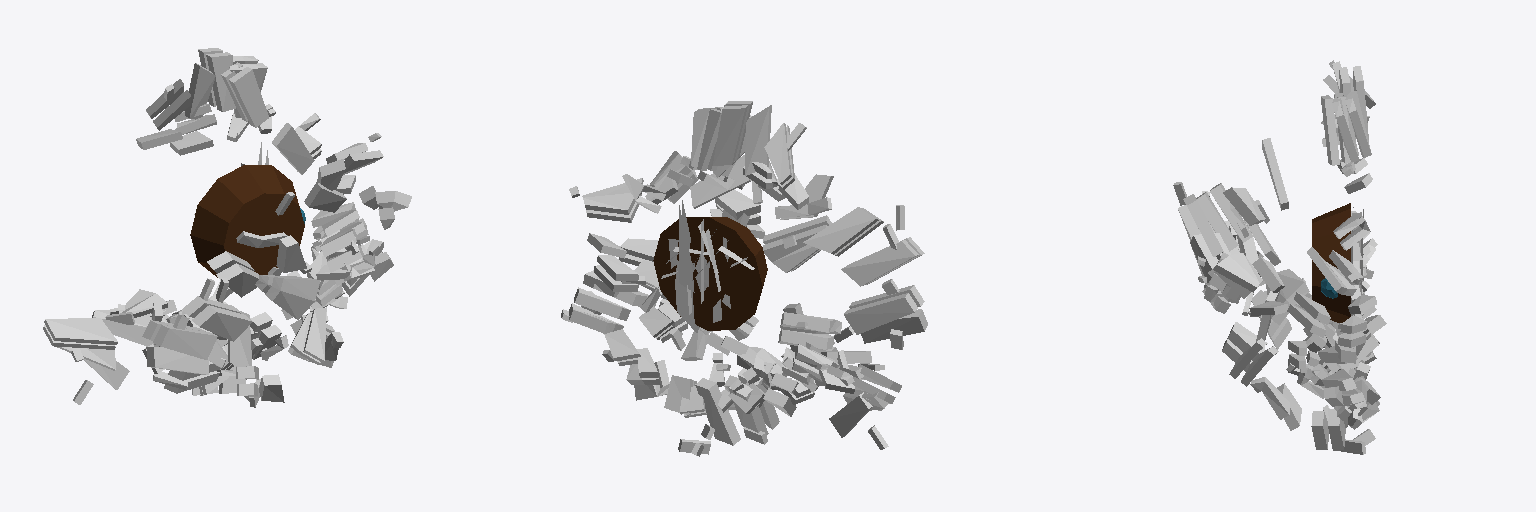
3 views of the same model, side by side, from view 1: azimuth 30°, elevation 25°; view 2: azimuth 150°, elevation 25°; view 3: azimuth 270°, elevation 25° (orthographic).
Visible parts, largest first — view 1: Cone.001_Cone.001_cover, Cone_Cone_cover, Cylinder_Cylinder_Material.001; view 2: Cone_Cone_cover, Cone.001_Cone.001_cover, Cylinder_Cylinder_Material.001, Plane_Plane_Material.003; view 3: Cone_Cone_cover, Cone.001_Cone.001_cover, Cylinder_Cylinder_Material.001, Plane_Plane_Material.003.
Part boxes in pixels (left/top/right/bottom): Cone.001_Cone.001_cover: left=43, top=48, right=383, bottom=404; Cone_Cone_cover: left=105, top=159, right=411, bottom=407; Cylinder_Cylinder_Material.001: left=190, top=165, right=304, bottom=277; Cone_Cone_cover: left=561, top=151, right=927, bottom=456; Cone.001_Cone.001_cover: left=569, top=101, right=904, bottom=449; Cylinder_Cylinder_Material.001: left=653, top=217, right=767, bottom=330; Plane_Plane_Material.003: left=661, top=200, right=754, bottom=332; Cone_Cone_cover: left=1178, top=183, right=1386, bottom=454; Cone.001_Cone.001_cover: left=1173, top=60, right=1379, bottom=405; Cylinder_Cylinder_Material.001: left=1312, top=203, right=1350, bottom=322; Plane_Plane_Material.003: left=1351, top=207, right=1363, bottom=315.
Size of the model in its own units: 3.42 by 3.53 by 1.88.
Materials: 4 (1 with a texture image).